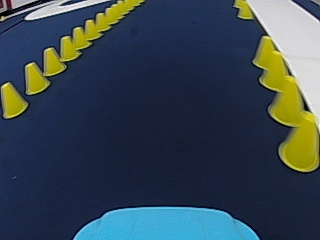cone: (278, 116, 319, 170), (267, 72, 309, 124), (256, 41, 292, 89), (0, 81, 28, 118), (251, 34, 278, 70), (23, 61, 49, 94), (41, 46, 64, 75), (58, 35, 78, 60), (69, 26, 87, 49), (82, 19, 97, 40), (236, 1, 252, 19), (93, 12, 107, 32), (103, 7, 117, 24)
